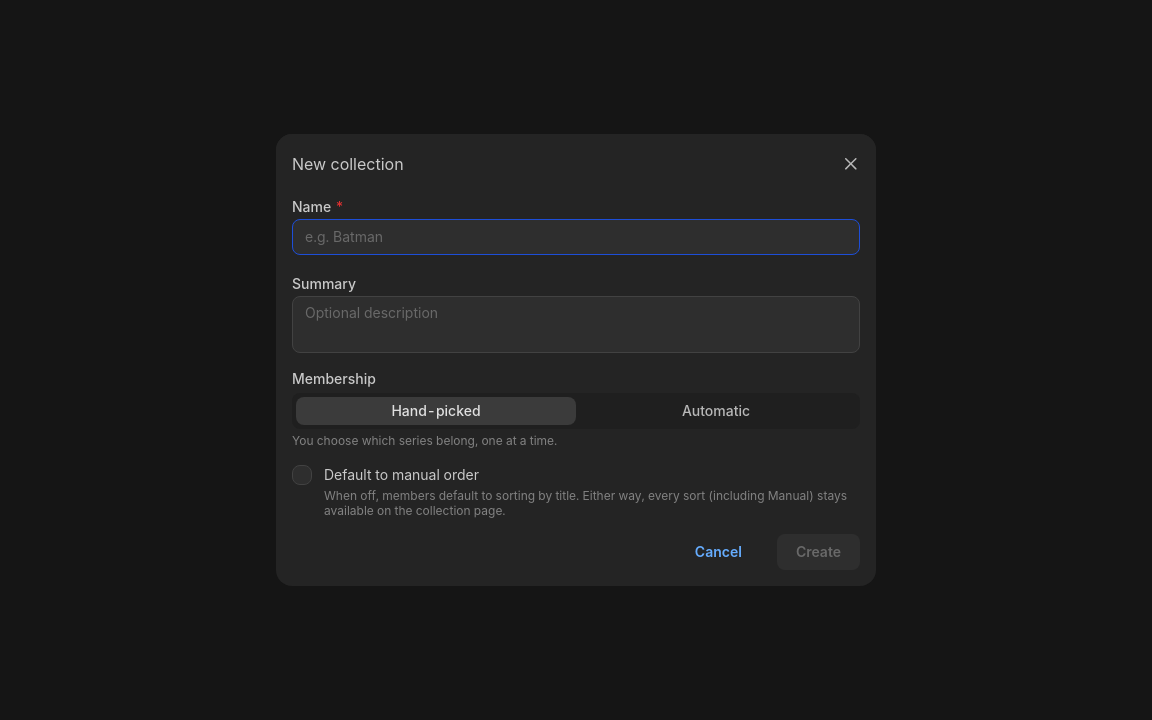
Test: CollectionFormModal membership mode › reveals the filter builder when switching to automatic
The image size is (1152, 720).
Click the text "Automatic". click: click(716, 410)
box: [682, 402, 750, 419]
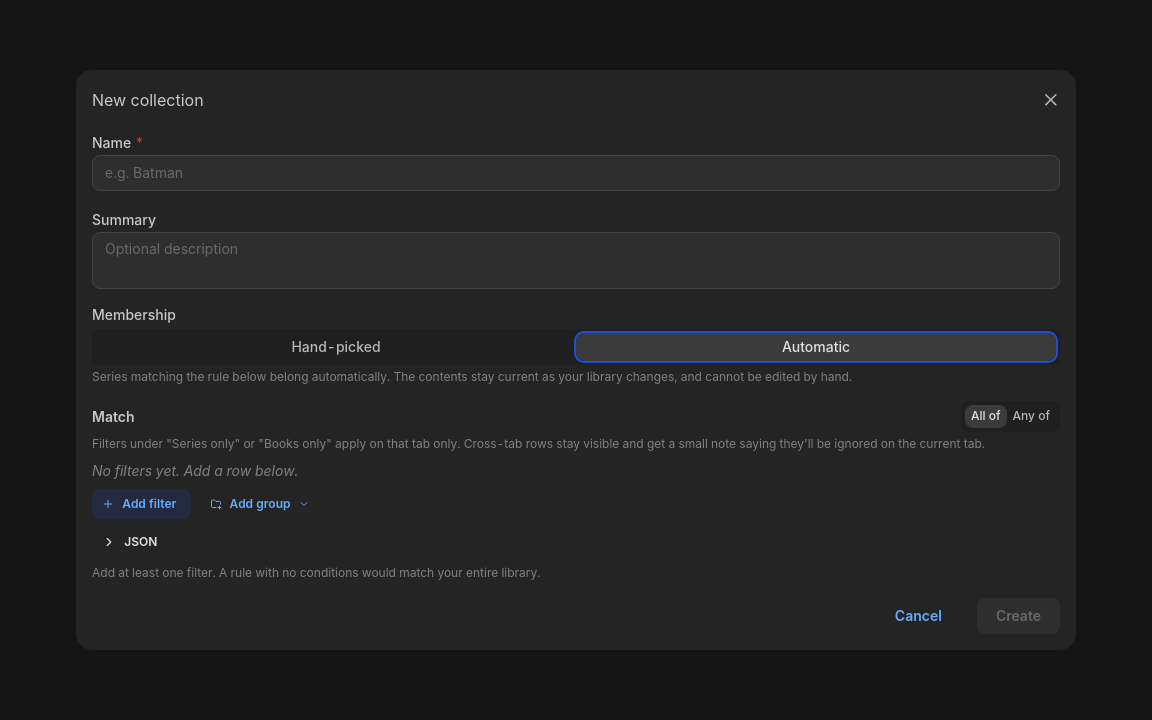
Check: the text "Series matching the rule below belong automatically" is shown, box [92, 369, 852, 384]
Check: the button "Add filter" is shown, box [92, 489, 191, 519]
